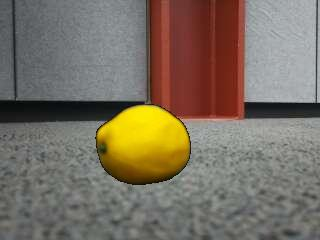lemon: (99, 105, 191, 184)
